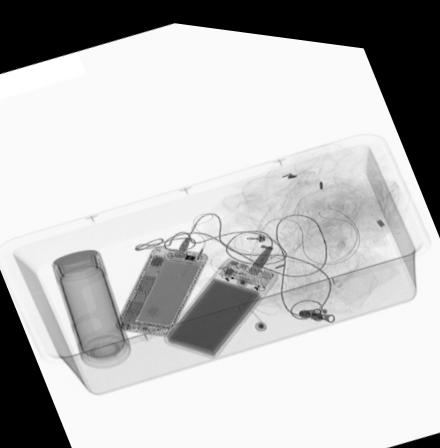Powerbank: (163, 251, 284, 350)
